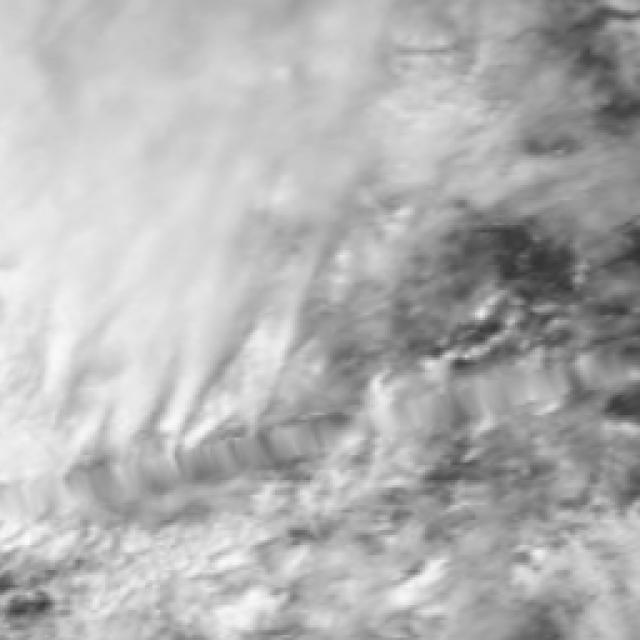CB: (0, 0, 301, 391)
